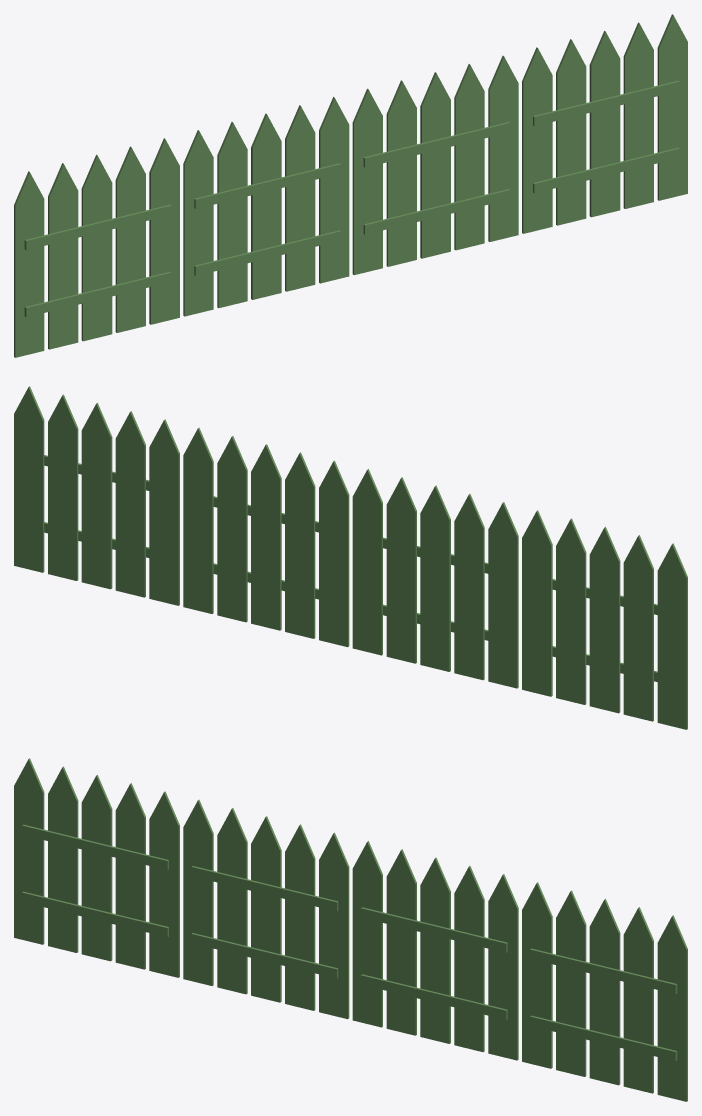
File: fence2.fbx
3 views of the same model, one above another, from view 1: azimuth 30°, elevation 25°; view 2: azimuth 150°, elevation 25°; view 3: azimuth 330°, elevation 25° (orthographic).
Parts seen in each view (by area): view 1: Picket fence 2; view 2: Picket fence 2; view 3: Picket fence 2.
Boxes of the visible parts, x1,y1,x2,y2 form: Picket fence 2: (14, 14, 687, 357); Picket fence 2: (14, 386, 687, 729); Picket fence 2: (14, 758, 687, 1101).
Size of the model in its own units: 6950 by 1800 by 50.
